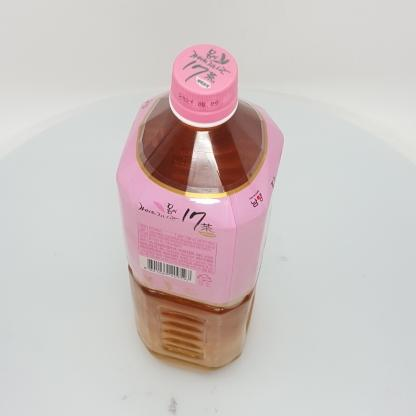--17-----1-5L: (116, 44, 284, 373)
